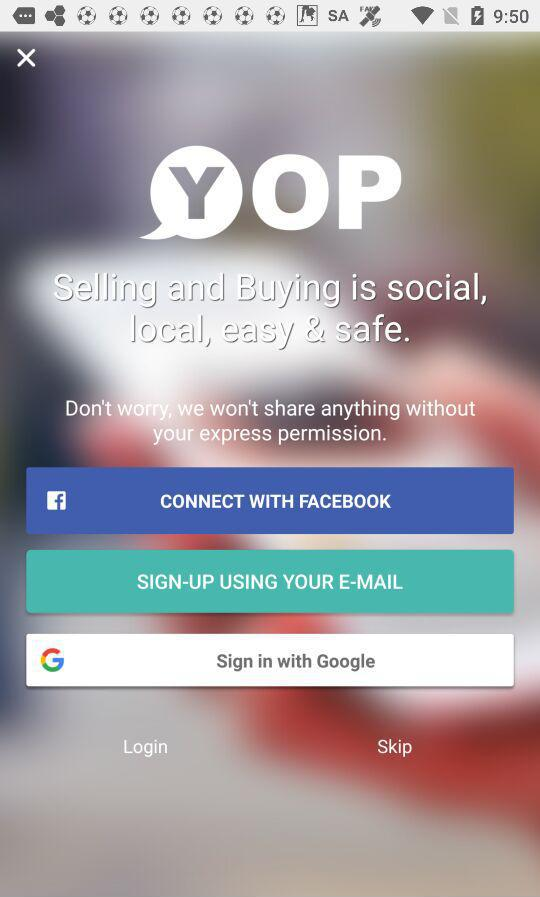BackgroundImage: (1, 33, 540, 897)
Icon: (16, 48, 37, 69)
Image: (138, 146, 402, 241)
Text: (54, 272, 487, 352), (66, 399, 476, 446), (124, 739, 169, 759), (377, 738, 413, 758)
TextButton: (26, 467, 514, 535), (26, 550, 514, 615), (26, 634, 515, 688)
UpperTaskBar: (1, 1, 540, 33)
